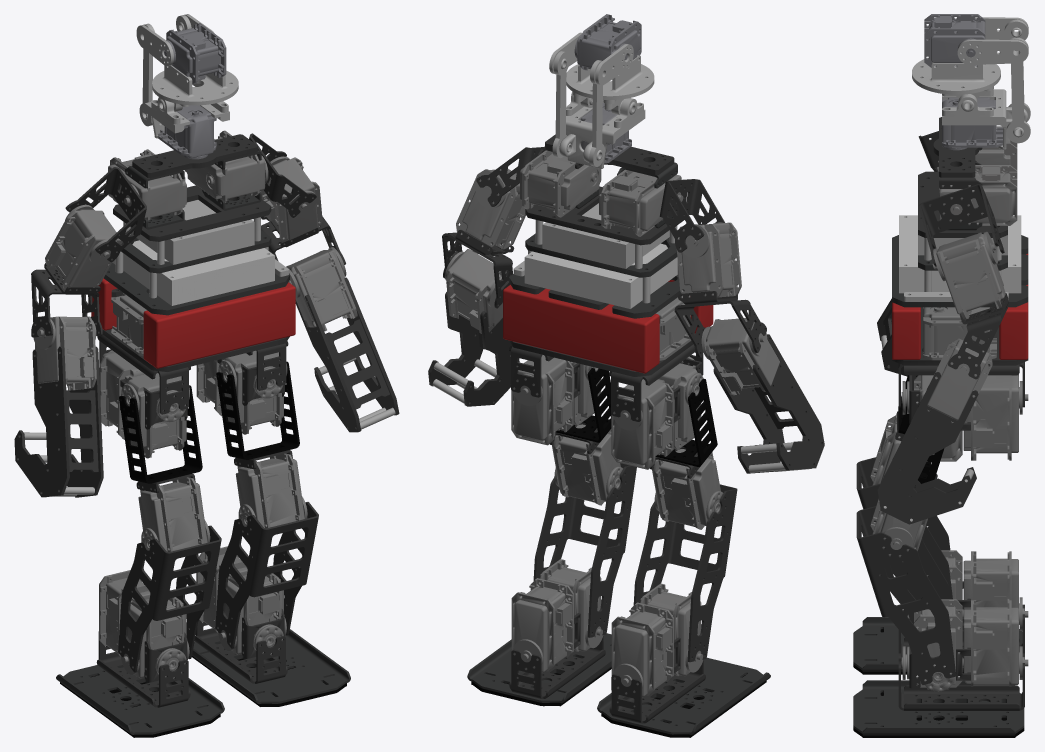
The model's file is humanoid_robot.glb.
3 views of the same model, side by side, from view 1: azimuth 30°, elevation 25°; view 2: azimuth 150°, elevation 25°; view 3: azimuth 270°, elevation 25° (orthographic). The views are drawn at different scales.
Parts seen in each view (by area): view 1: Object_3, Object_2, Object_6, Object_5, Object_4, Object_7; view 2: Object_3, Object_6, Object_2, Object_5, Object_4, Object_7; view 3: Object_3, Object_2, Object_4, Object_5, Object_6, Object_7.
Boxes of the visible parts, x1,y1,x2,y2 form: Object_3: (45,130,357,734); Object_2: (14,14,399,737); Object_6: (31,133,345,672); Object_5: (96,351,307,707); Object_4: (119,341,318,682); Object_7: (33,156,320,390); Object_3: (445,150,770,734); Object_6: (442,147,779,662); Object_2: (428,14,824,737); Object_5: (509,358,723,723); Object_4: (509,345,701,673); Object_7: (457,171,779,394); Object_3: (853,126,1028,735); Object_2: (853,14,1030,737); Object_4: (856,307,1028,691); Object_5: (870,374,1028,710); Object_6: (856,131,1028,599); Object_7: (937,231,999,318).
Bounding box in the file's own units: 345 × 607 × 147.
